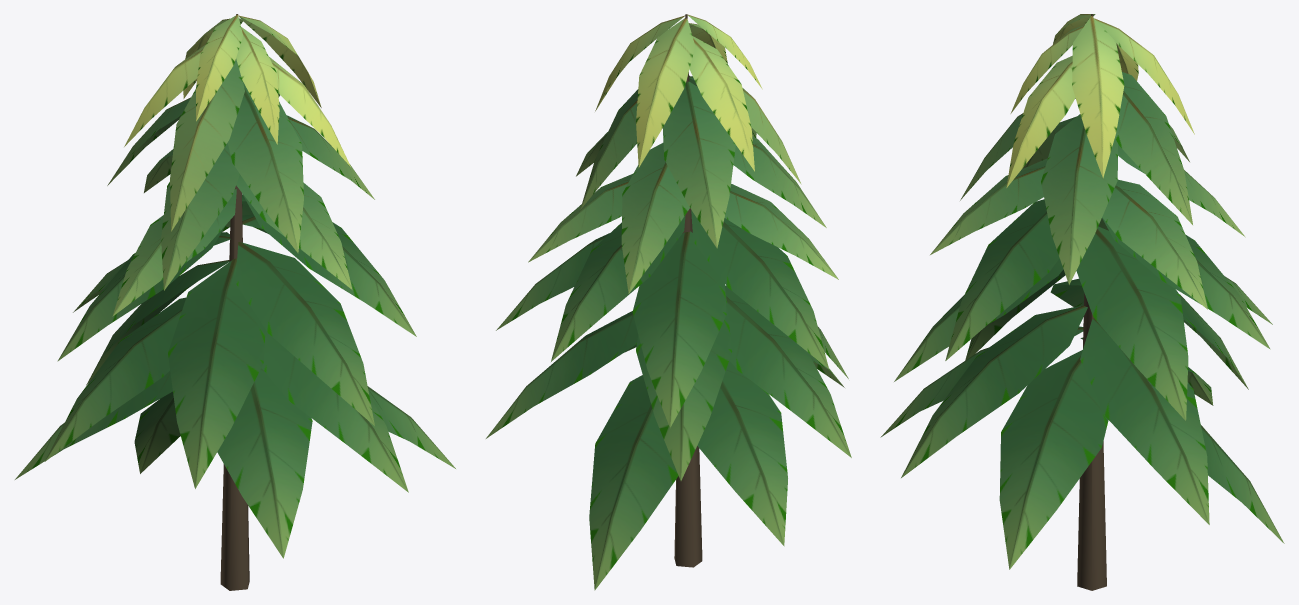
Rendered from Tree_006_Mesh_001.fbx.
3 views of the same model, side by side, from view 1: azimuth 30°, elevation 25°; view 2: azimuth 150°, elevation 25°; view 3: azimuth 270°, elevation 25° (orthographic). The views are drawn at different scales.
Parts seen in each view (by area): view 1: Tree_006_Mesh_001; view 2: Tree_006_Mesh_001; view 3: Tree_006_Mesh_001.
Part boxes in pixels (x1,y1,x2,y2): Tree_006_Mesh_001: (15,14,455,590); Tree_006_Mesh_001: (486,14,851,590); Tree_006_Mesh_001: (880,14,1284,590).
Size of the model in its own units: 2403 by 3630 by 2333.
